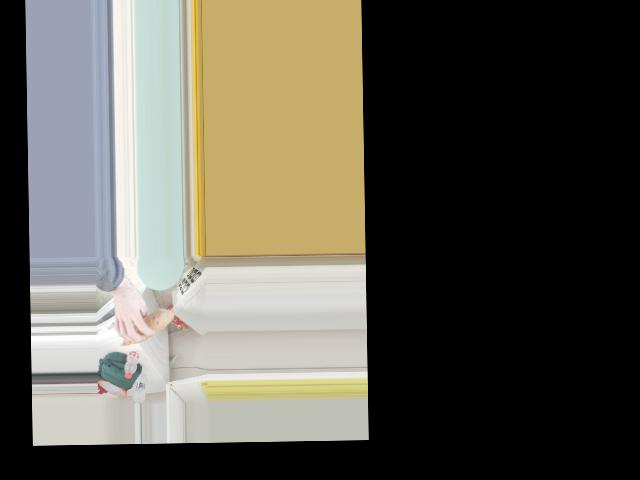sweet_potato: (117, 308, 172, 343)
